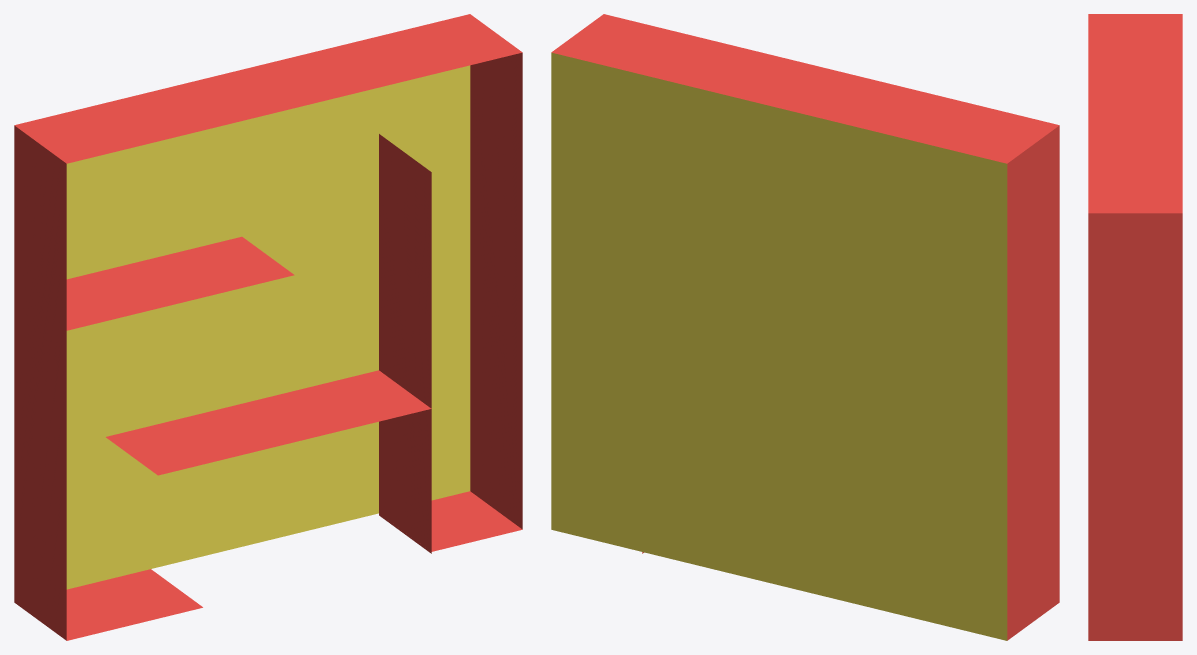
Rendered from room3.gltf.
3 renders of one model, left to right at view 1: azimuth 30°, elevation 25°; view 2: azimuth 150°, elevation 25°; view 3: azimuth 270°, elevation 25°, orthographic. The views are drawn at different scales.
Visible parts, largest first — view 1: Plane.019, Plane.022, Plane.025, Plane.021, Plane.024, Plane.026, Plane.023, Plane.027, Plane.032, Plane.046, Plane.020, Plane.033; view 2: Plane.019, Plane.022, Plane.021; view 3: Plane.025, Plane.021.
Part boxes in pixels (x1,y1,x2,y2): Plane.019: [66, 65, 470, 589]; Plane.022: [14, 125, 66, 640]; Plane.025: [470, 52, 522, 529]; Plane.021: [14, 14, 522, 163]; Plane.024: [379, 149, 431, 553]; Plane.026: [106, 370, 390, 475]; Plane.023: [66, 236, 294, 309]; Plane.027: [379, 134, 431, 339]; Plane.032: [169, 370, 431, 472]; Plane.046: [66, 569, 202, 640]; Plane.020: [431, 491, 522, 551]; Plane.033: [66, 285, 191, 330]; Plane.019: [551, 52, 1007, 640]; Plane.022: [1007, 125, 1059, 640]; Plane.021: [551, 14, 1059, 163]; Plane.025: [1088, 213, 1182, 640]; Plane.021: [1088, 14, 1182, 213].
Size of the model in its own units: 20 by 20.08 by 4.
2 materials, 2 textured.
